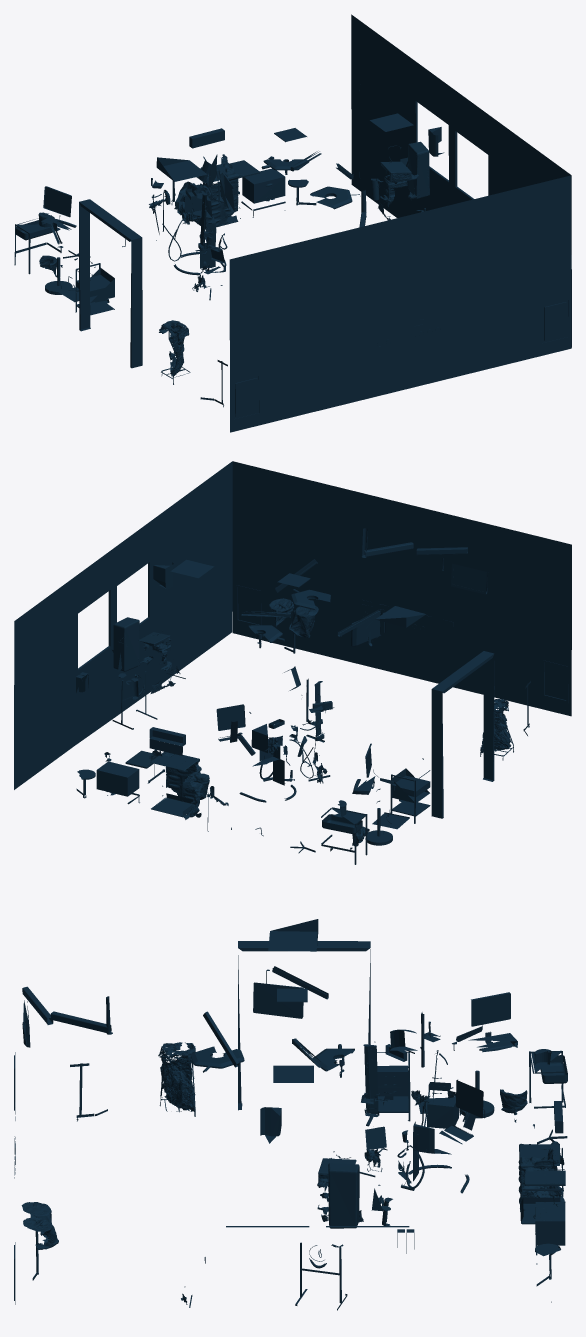
File: charite_university_hospital_-_operating_room_2.obj
3 renders of one model, top to bottom at view 1: azimuth 30°, elevation 25°; view 2: azimuth 150°, elevation 25°; view 3: azimuth 270°, elevation 25°, orthographic. The views are drawn at different scales.
Bounding box in the file's own units: 5.84 × 2.78 × 6.3.
